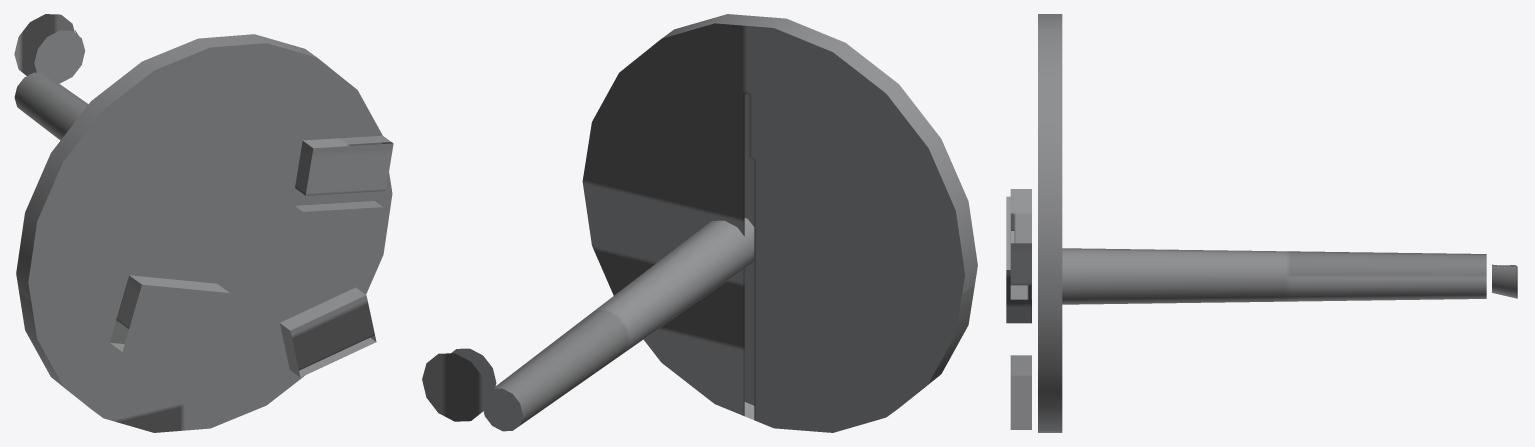
The picture shows the model from 3 angles, left to right: view 1: azimuth 30°, elevation 25°; view 2: azimuth 150°, elevation 25°; view 3: azimuth 270°, elevation 25°; orthographic projection. The views are drawn at different scales.
Size of the model in its own units: 0.7666 by 0.7666 by 0.9341.
